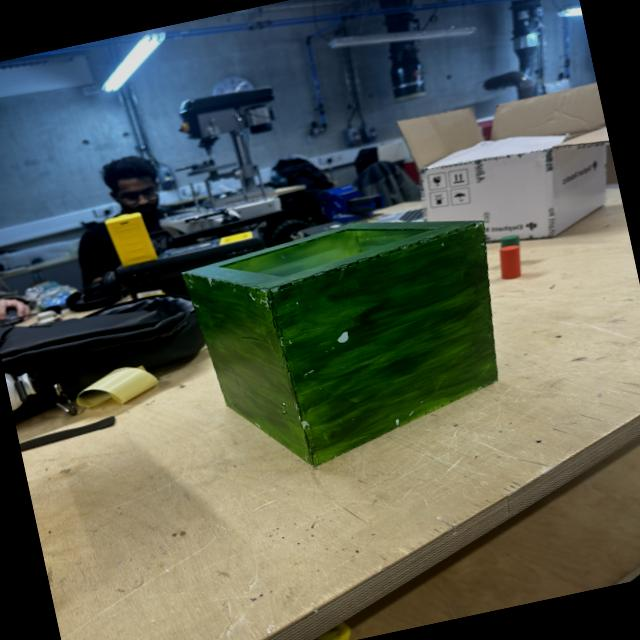green_bin: (178, 196, 526, 486)
